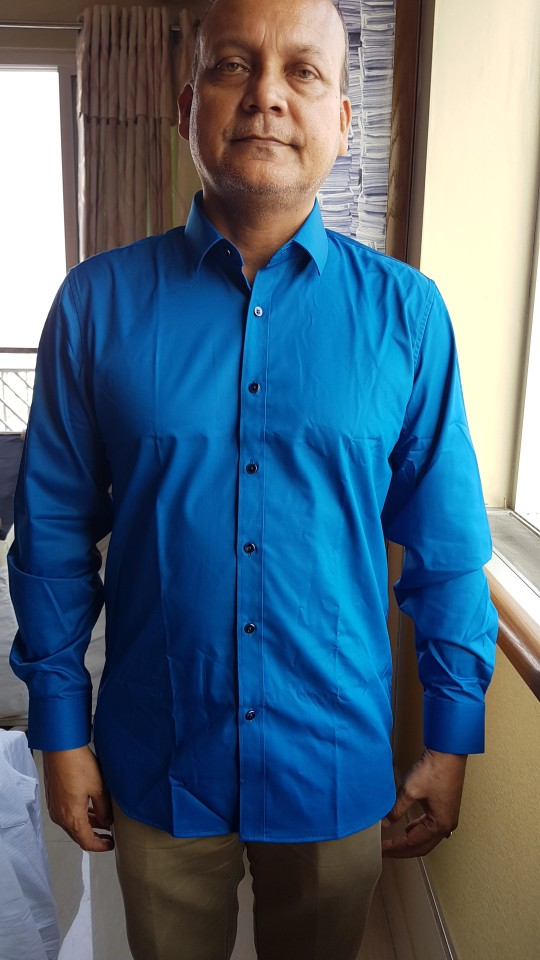shirts: (36, 193, 501, 855)
